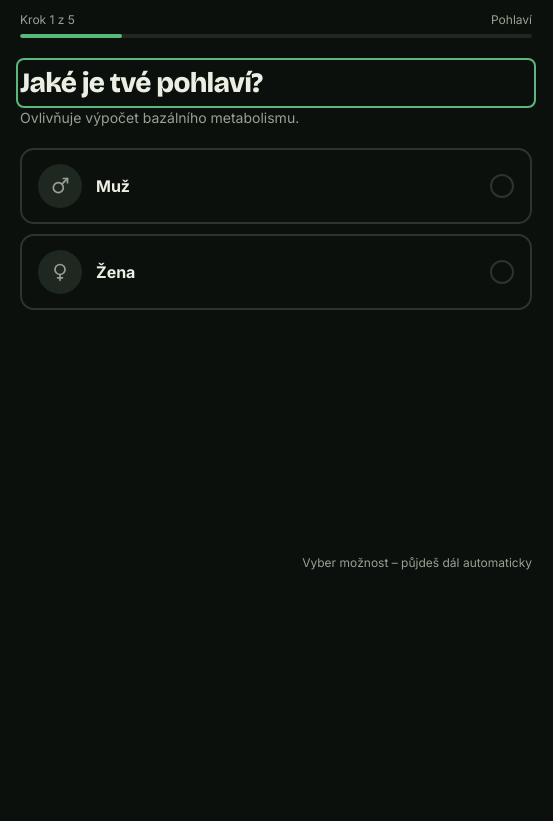
Test case: Cílový průvodce › hubnutí ukáže krok tempo s posuvníkem a termínem
Click the radio button labelled "Muž" at x=60, y=186, box [20,148,532,224]
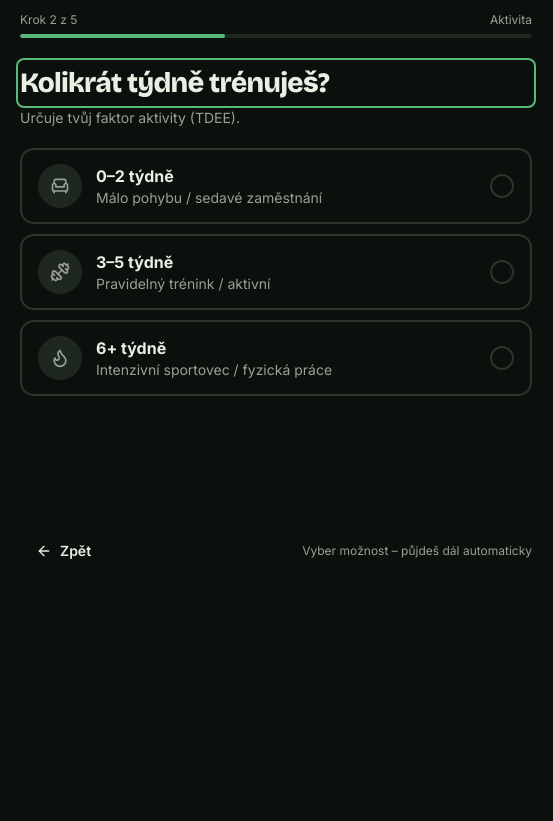
Check: the text "Krok 2 z 5" is shown, box [20,12,77,28]
Check: the heading "Kolikrát týdně trénuješ?" is shown, box [20,66,329,100]
Click the radio button labelled "0–2 týdně Málo pohybu / sedavé zaměstnání" at x=276, y=186, box [20,148,532,224]
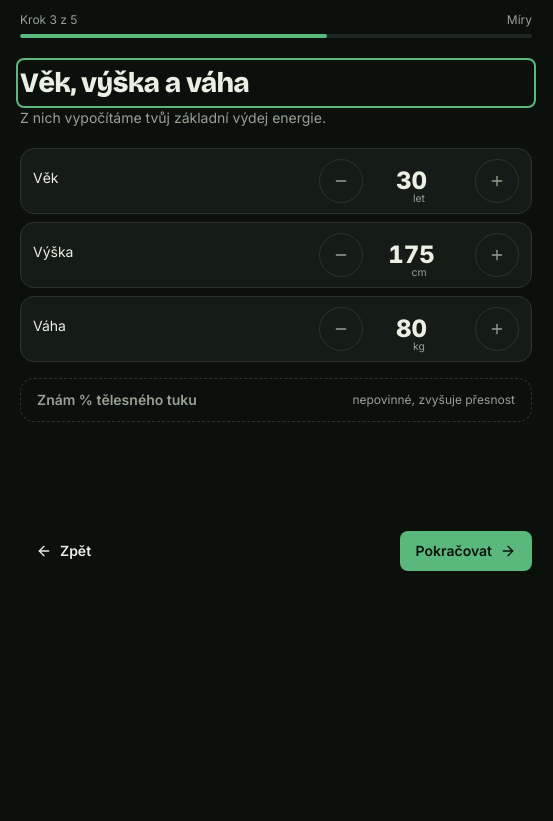
Check: the text "Krok 3 z 5" is shown, box [20,12,78,28]
Check: the button "Pokračovat" is shown
Click the button "Pokračovat" at x=466, y=551, box [400,531,532,571]
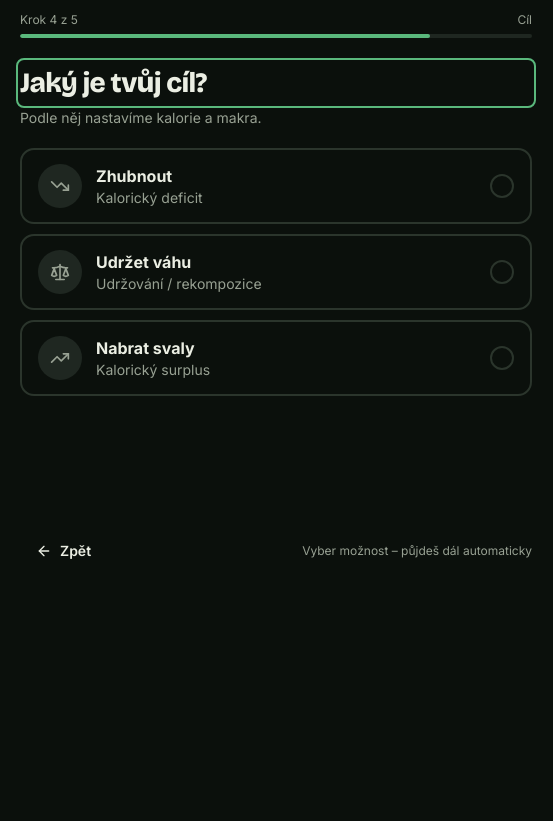
Check: the heading "Jaký je tvůj cíl?" is shown, box [20,66,206,100]
Click the radio button labelled "Zhubnout Kalorický deficit" at x=60, y=186, box [20,148,532,224]
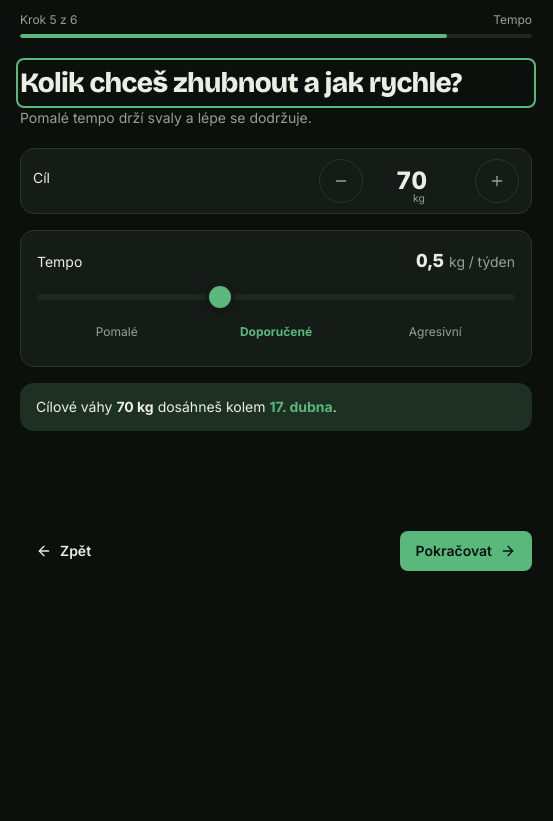
Check: the slider labelled "Tempo" is shown, box [37,294,515,300]
Check: the text "Cílové váhy" is shown, box [36,398,116,415]
Click the button "Pokračovat" at x=466, y=551, box [400,531,532,571]
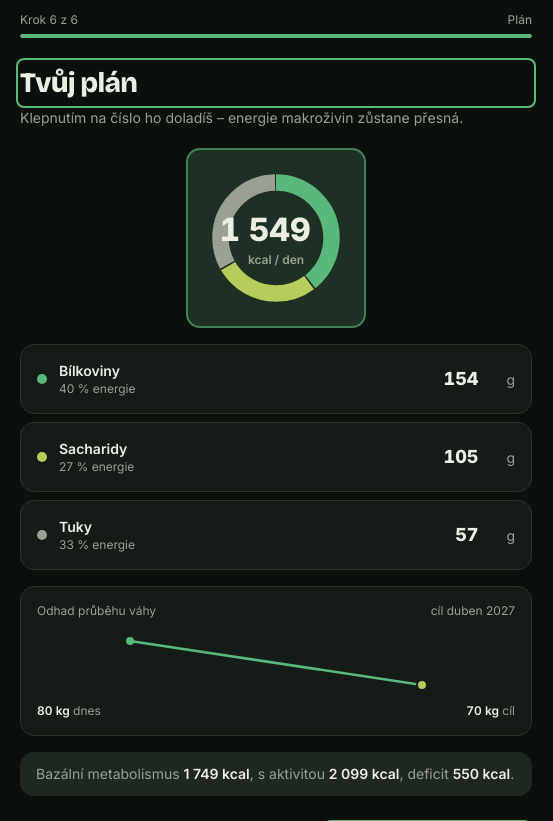
Check: the heading "Tvůj plán" is shown, box [20,66,137,100]
